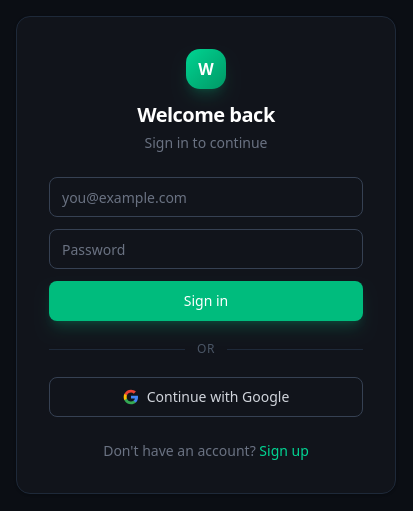
it: Auth — mode toggle › switches to sign-up mode when the toggle link is clicked
Click the button "Sign up". click: (284, 451)
box: [259, 441, 309, 461]
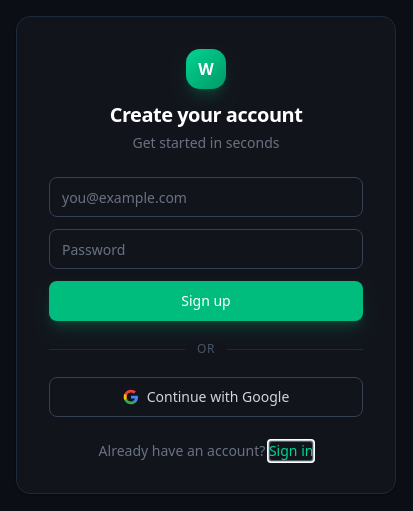
Expected: the heading "Create your account" is shown, [110, 101, 302, 128]
Expected: the button "Sign up" is shown, [49, 281, 363, 321]
